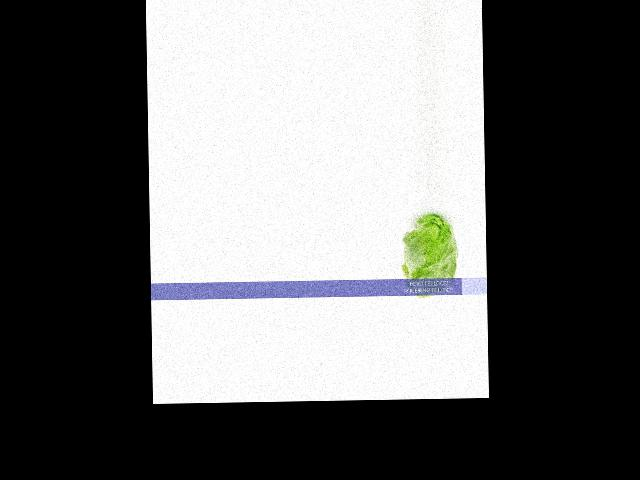lettuce: (400, 209, 456, 298)
